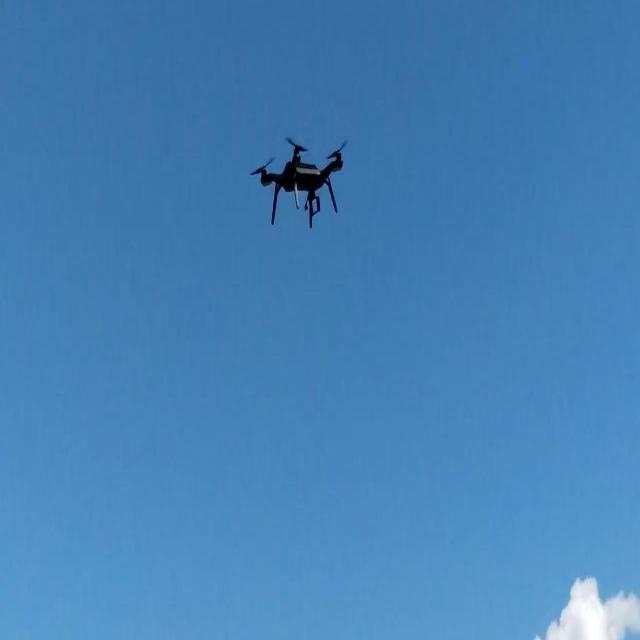UAV: (250, 136, 348, 228)
